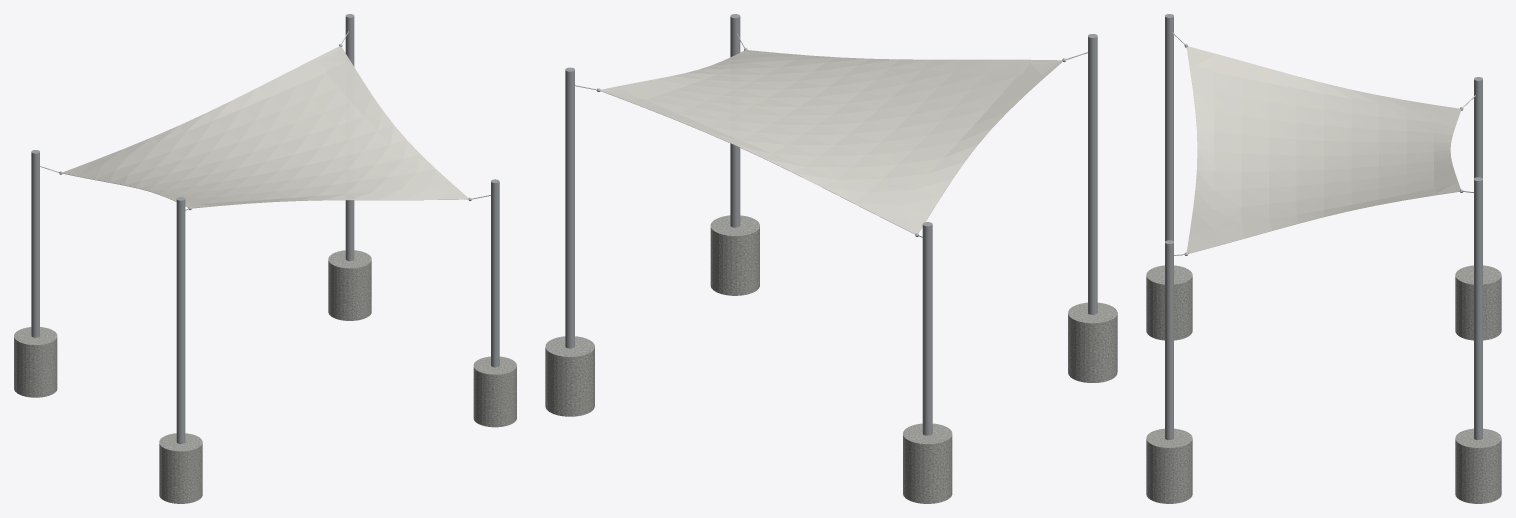
3 renders of one model, left to right at view 1: azimuth 30°, elevation 25°; view 2: azimuth 150°, elevation 25°; view 3: azimuth 270°, elevation 25°, orthographic. The views are drawn at different scales.
Parts seen in each view (by area): view 1: climate.shade_sail (×3); view 2: climate.shade_sail (×3); view 3: climate.shade_sail (×3).
Part boxes in pixels (x1=…): climate.shade_sail (×3): x1=14, y1=14, x2=516, y2=503; climate.shade_sail (×3): x1=545, y1=14, x2=1117, y2=503; climate.shade_sail (×3): x1=1146, y1=14, x2=1501, y2=503.
Bounding box in the file's own units: 5.6 × 4.6 × 4.5.
Materials: 4 (1 with a texture image).
